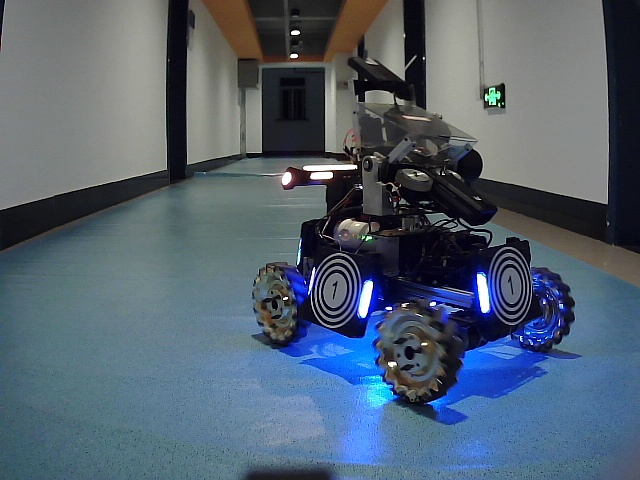lamp: (356, 279, 374, 318), (476, 269, 491, 315), (308, 264, 316, 298)
pair: (308, 267, 373, 319)
